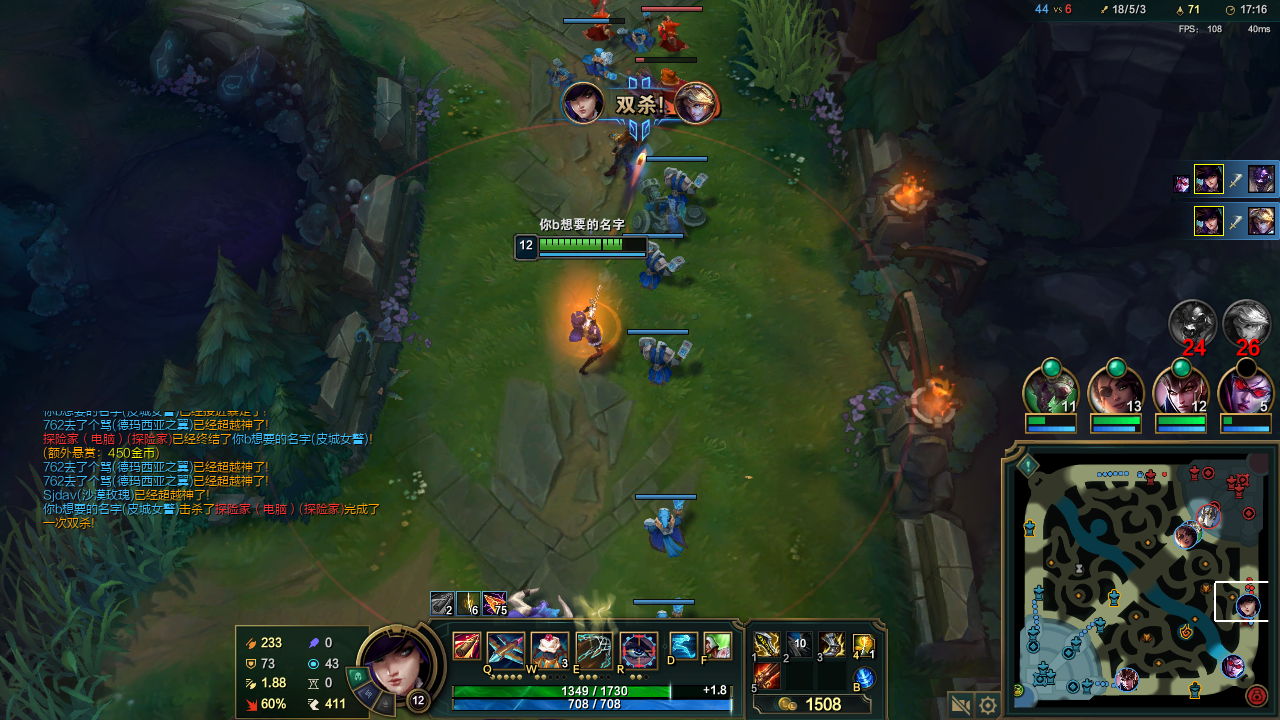DFXB: (646, 17, 687, 50), (656, 77, 683, 107), (587, 16, 616, 35)
WFXB: (629, 340, 698, 402), (638, 507, 693, 557), (641, 235, 685, 291), (656, 165, 706, 204), (576, 49, 613, 78)
